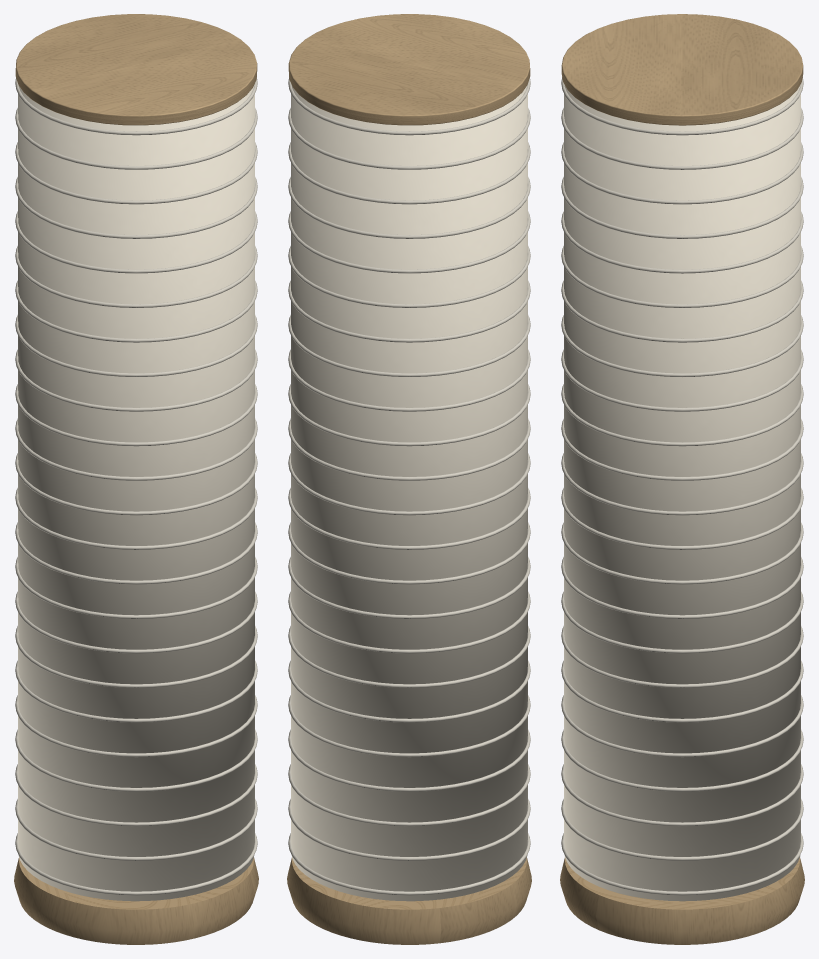
The model's file is floor-lamp.glb.
The picture shows the model from 3 angles, left to right: view 1: azimuth 30°, elevation 25°; view 2: azimuth 150°, elevation 25°; view 3: azimuth 270°, elevation 25°; orthographic projection.
Visible parts, largest first — view 1: Paper | open cylindrical lantern, Paper | top cap, Paper column | timber foot, Paper | supporting rib.005, Paper | supporting rib.016, Paper | supporting rib.007, Paper | supporting rib.018, Paper | supporting rib.003, Paper | supporting rib.009, Paper | supporting rib.014, Paper | supporting rib.019, Paper | supporting rib.010 (+14 smaller); view 2: Paper | open cylindrical lantern, Paper | top cap, Paper column | timber foot, Paper | supporting rib.005, Paper | supporting rib.016, Paper | supporting rib.007, Paper | supporting rib.018, Paper | supporting rib.003, Paper | supporting rib.009, Paper | supporting rib.014, Paper | supporting rib.019, Paper | supporting rib.010 (+14 smaller); view 3: Paper | open cylindrical lantern, Paper | top cap, Paper column | timber foot, Paper | supporting rib.016, Paper | supporting rib.007, Paper | supporting rib.005, Paper | supporting rib.009, Paper | supporting rib.018, Paper | supporting rib.014, Paper | supporting rib.003, Paper | supporting rib.010, Paper | supporting rib.012 (+14 smaller).
Part boxes in pixels (left/top/right/bottom): Paper | open cylindrical lantern: left=18, top=85, right=254, bottom=901; Paper | top cap: left=15, top=14, right=257, bottom=125; Paper column | timber foot: left=14, top=857, right=258, bottom=944; Paper | supporting rib.005: left=15, top=660, right=257, bottom=722; Paper | supporting rib.016: left=15, top=280, right=257, bottom=342; Paper | supporting rib.007: left=15, top=591, right=257, bottom=653; Paper | supporting rib.018: left=15, top=211, right=257, bottom=273; Paper | supporting rib.003: left=15, top=729, right=257, bottom=791; Paper | supporting rib.009: left=15, top=522, right=257, bottom=584; Paper | supporting rib.014: left=15, top=349, right=257, bottom=411; Paper | supporting rib.019: left=15, top=177, right=257, bottom=238; Paper | supporting rib.010: left=15, top=488, right=257, bottom=549; Paper | open cylindrical lantern: left=291, top=85, right=527, bottom=901; Paper | top cap: left=288, top=14, right=530, bottom=125; Paper column | timber foot: left=287, top=857, right=531, bottom=944; Paper | supporting rib.005: left=288, top=660, right=530, bottom=722; Paper | supporting rib.016: left=288, top=280, right=530, bottom=342; Paper | supporting rib.007: left=288, top=591, right=530, bottom=653; Paper | supporting rib.018: left=288, top=211, right=530, bottom=273; Paper | supporting rib.003: left=288, top=729, right=530, bottom=791; Paper | supporting rib.009: left=288, top=522, right=530, bottom=584; Paper | supporting rib.014: left=288, top=349, right=530, bottom=411; Paper | supporting rib.019: left=288, top=177, right=530, bottom=238; Paper | supporting rib.010: left=288, top=488, right=530, bottom=549; Paper | open cylindrical lantern: left=564, top=85, right=800, bottom=901; Paper | top cap: left=561, top=14, right=803, bottom=125; Paper column | timber foot: left=560, top=858, right=804, bottom=944; Paper | supporting rib.016: left=561, top=280, right=803, bottom=342; Paper | supporting rib.007: left=561, top=591, right=803, bottom=653; Paper | supporting rib.005: left=561, top=660, right=803, bottom=722; Paper | supporting rib.009: left=561, top=522, right=803, bottom=584; Paper | supporting rib.018: left=561, top=211, right=803, bottom=273; Paper | supporting rib.014: left=561, top=349, right=803, bottom=411; Paper | supporting rib.003: left=561, top=729, right=803, bottom=791; Paper | supporting rib.010: left=561, top=488, right=803, bottom=549; Paper | supporting rib.012: left=561, top=419, right=803, bottom=480.
Size of the model in its own units: 0.302 by 1.13 by 0.302.
6 materials, 6 textured.
